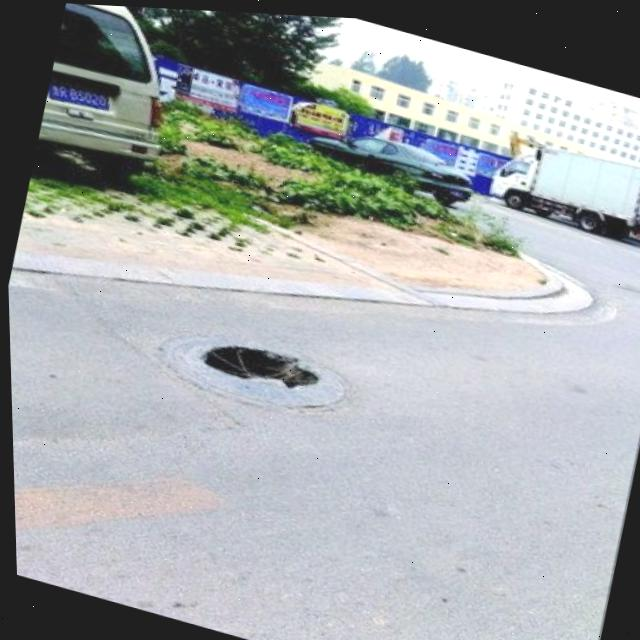manhole: (138, 300, 361, 422)
